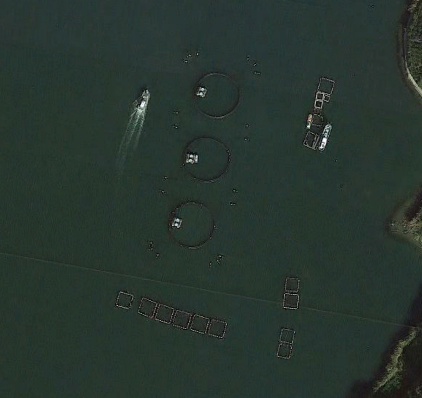circle: (163, 195, 222, 254), (179, 130, 237, 186), (191, 67, 245, 123)
ship: (132, 83, 157, 116), (318, 119, 333, 155)
square: (130, 294, 158, 322), (168, 307, 193, 335), (186, 310, 211, 338), (111, 285, 136, 312), (151, 302, 176, 327), (272, 337, 296, 363), (206, 316, 229, 342), (282, 273, 306, 297), (276, 323, 300, 347), (301, 125, 323, 151), (277, 289, 302, 310), (316, 74, 338, 97), (310, 107, 326, 131)
